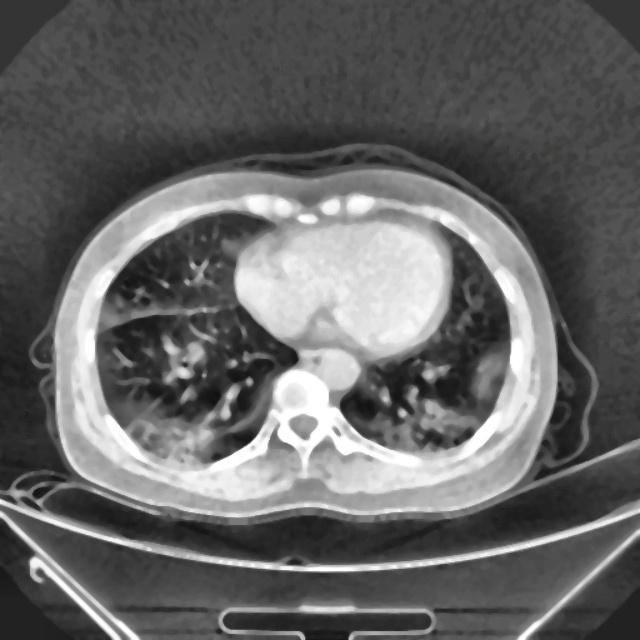covid: (40, 146, 575, 525)
